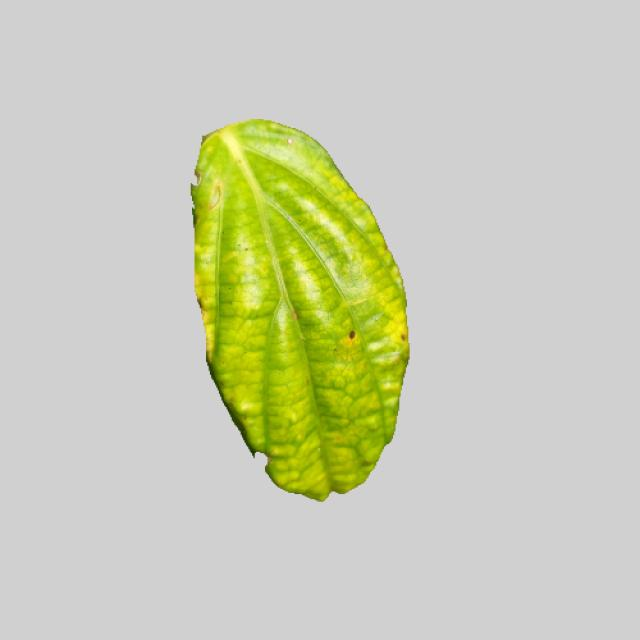yellow-mottle-virus: (187, 117, 409, 499)
